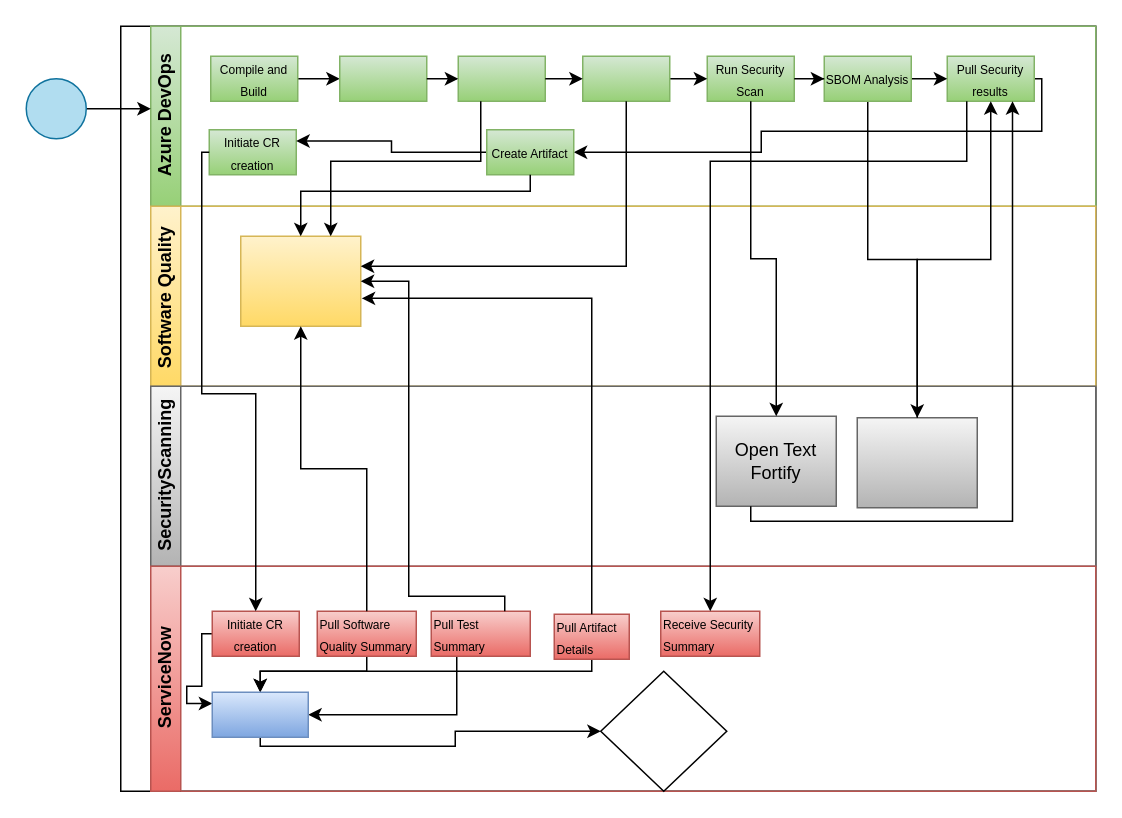
Image size: 1122x818. Some labels were removed from this diagram. The centre of each missing label's shape, as x and y in pixels:
"Collect Code Coverage" belongs at (501,78).
"Compile Policy Inputs" belongs at (259,714).
"Dependency Track" belongs at (916,462).
"Execute Decision Table" belongs at (663,730).
"Push Code" belongs at (55,108).
"Run Quality Scan" belongs at (625,78).
"Run Unit Tests" belongs at (382,78).
"SonarQube Quality Scanner" belongs at (300,280).
